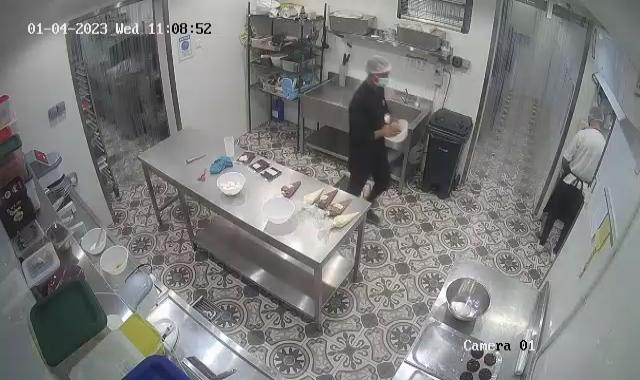hairnet: (363, 57, 393, 85), (586, 103, 606, 128)
